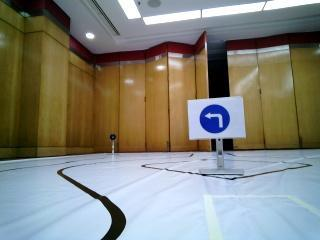left: (187, 102, 248, 141)
